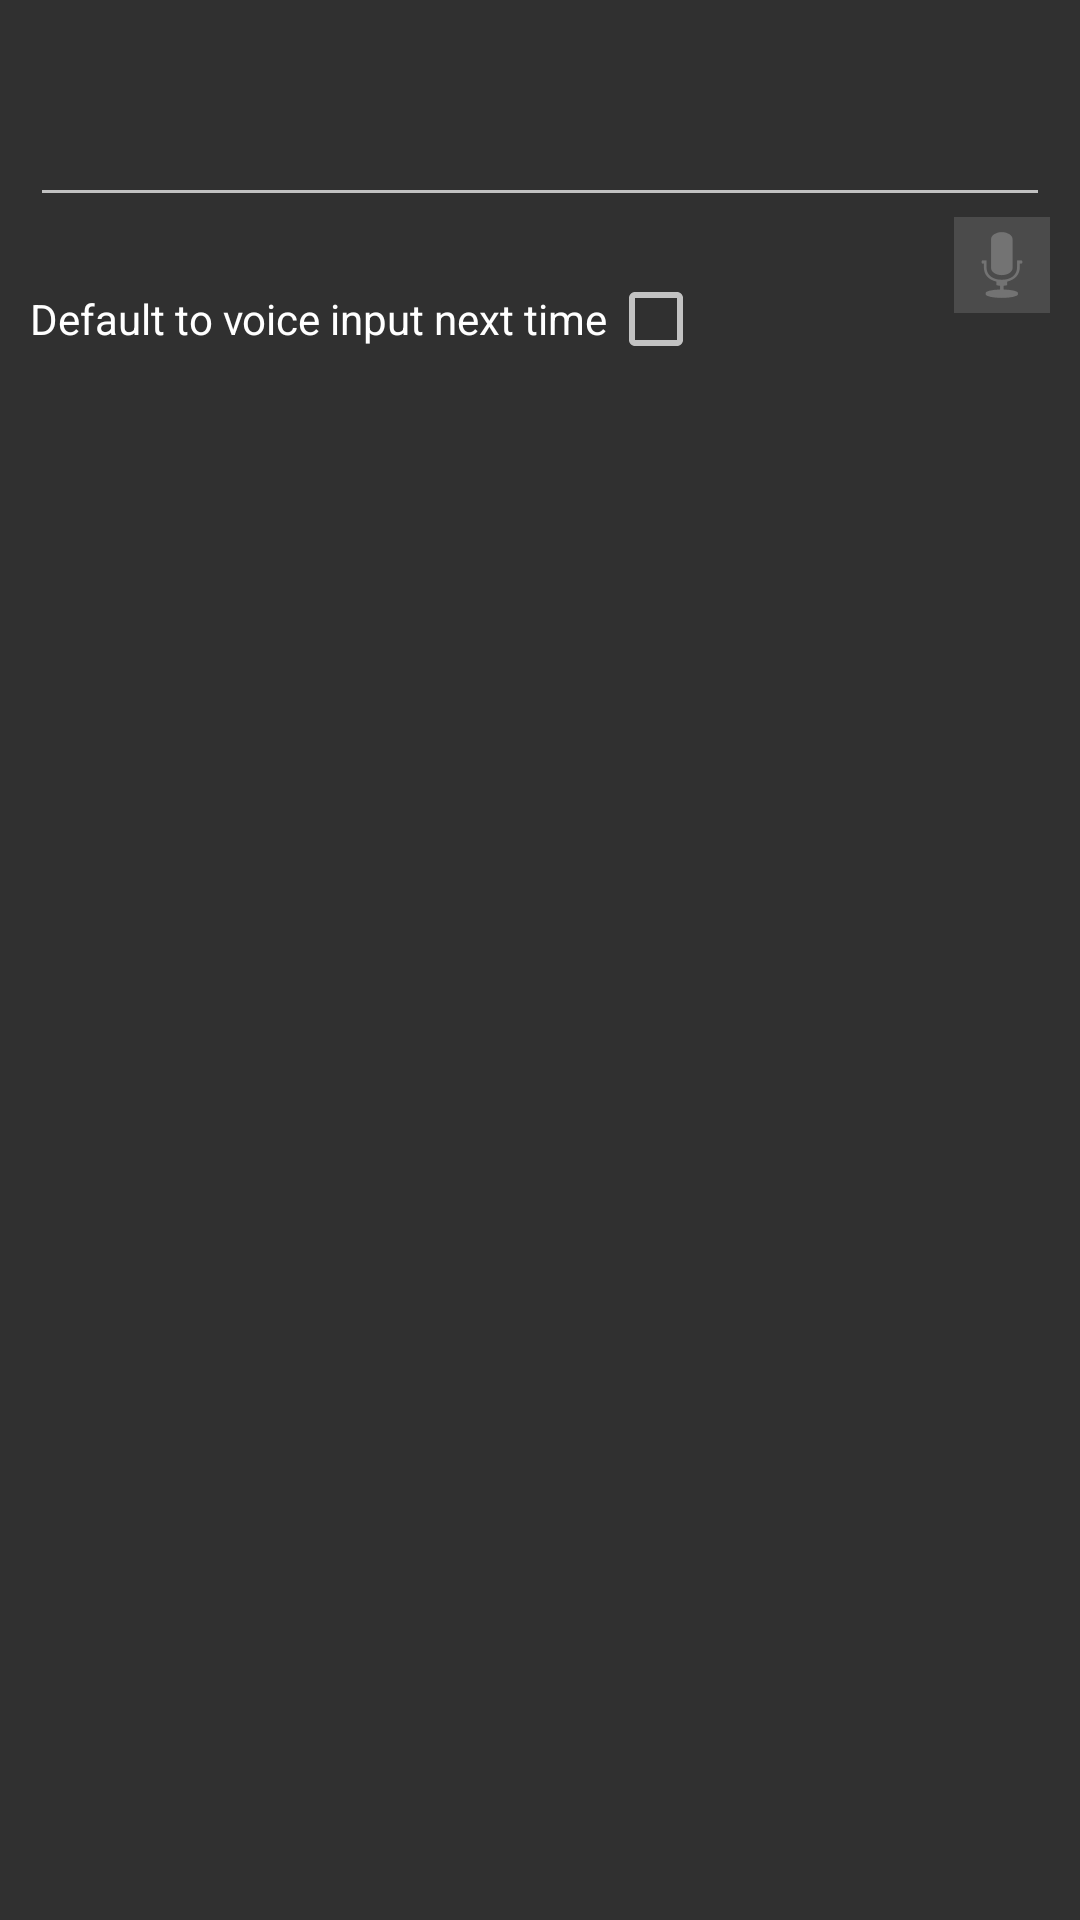

Point at icon controls on the screen. Image size 1080x1920, points as [x,y].
speak now: [1002,265]
